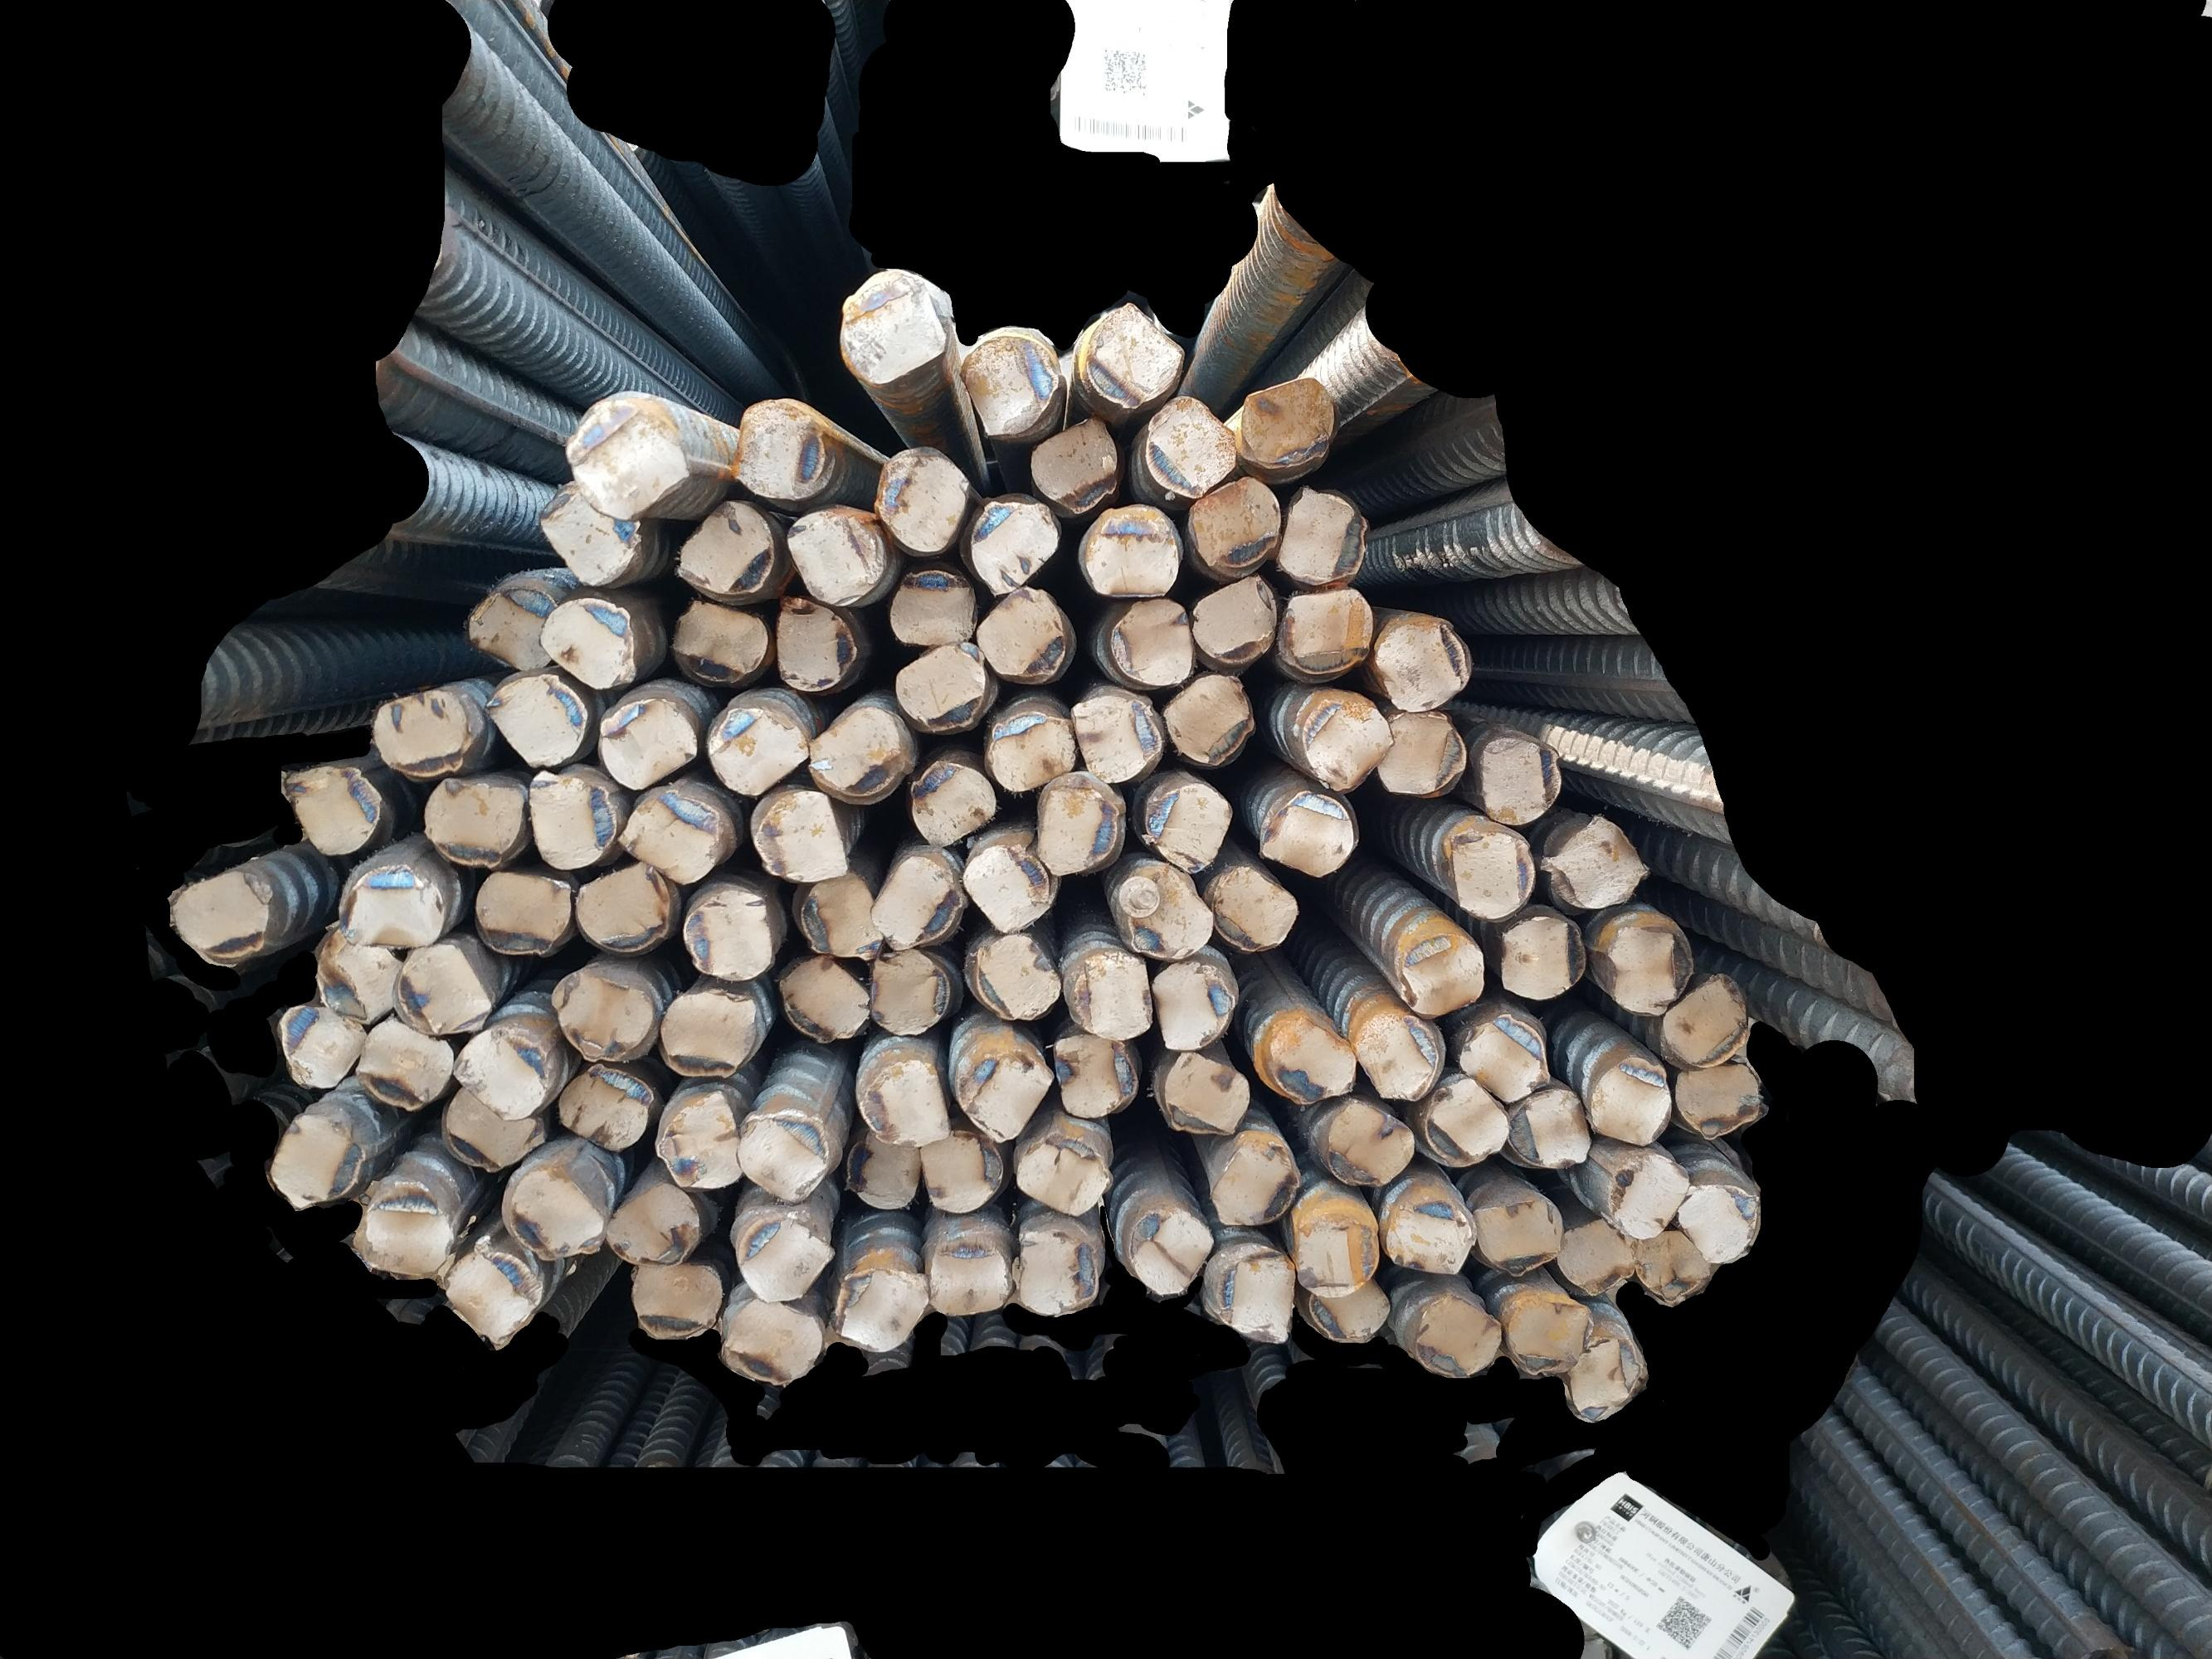bar: (554, 392, 692, 523), (833, 261, 957, 387), (957, 324, 1067, 441), (530, 479, 647, 587), (1079, 298, 1187, 415), (1539, 807, 1658, 913), (709, 1284, 828, 1389), (439, 1232, 547, 1345), (431, 1072, 549, 1175), (725, 392, 833, 504), (868, 444, 974, 558), (779, 502, 889, 610), (608, 788, 725, 889), (955, 1026, 1056, 1143), (1107, 859, 1218, 964), (544, 960, 657, 1063), (476, 673, 593, 770), (533, 587, 641, 692), (1156, 660, 1259, 770), (673, 486, 774, 598), (1468, 718, 1569, 829), (519, 760, 617, 875), (352, 1006, 457, 1112), (446, 1019, 551, 1126), (802, 695, 908, 800), (275, 760, 383, 863), (499, 1161, 607, 1263), (657, 589, 770, 687), (730, 1206, 840, 1305), (969, 575, 1069, 685), (166, 870, 279, 965), (389, 936, 493, 1039), (265, 1107, 368, 1211), (596, 692, 701, 795), (704, 695, 809, 798), (959, 495, 1063, 598), (865, 847, 967, 951), (303, 917, 404, 1023), (415, 770, 523, 870), (572, 857, 683, 953), (1208, 1236, 1302, 1349), (1006, 1216, 1107, 1321), (1199, 1126, 1304, 1227), (1598, 915, 1700, 1019), (354, 1176, 453, 1283), (329, 861, 448, 950), (1143, 392, 1239, 502), (364, 685, 476, 779), (1079, 502, 1180, 605), (1203, 857, 1306, 958), (1377, 610, 1478, 713), (650, 1086, 748, 1192), (1138, 772, 1236, 878), (554, 1058, 657, 1157), (1025, 416, 1124, 519), (1236, 373, 1339, 472), (657, 981, 760, 1080), (1257, 1009, 1360, 1108), (1299, 692, 1396, 796), (1184, 471, 1285, 570), (1065, 687, 1164, 788), (967, 924, 1065, 1026), (901, 748, 999, 850), (1143, 953, 1239, 1058), (1027, 770, 1121, 877), (767, 587, 859, 695), (1391, 924, 1490, 1023), (1454, 1007, 1553, 1107), (472, 863, 573, 960), (736, 1107, 833, 1208), (851, 1049, 952, 1147), (889, 636, 987, 737), (1443, 819, 1537, 924), (1187, 563, 1279, 669), (451, 586, 561, 674), (1157, 1042, 1257, 1140), (1259, 784, 1360, 880), (1654, 972, 1750, 1073), (1105, 591, 1199, 694), (1368, 704, 1471, 798), (1462, 1187, 1565, 1281), (1123, 1197, 1215, 1302), (1415, 1073, 1511, 1173), (748, 789, 851, 882), (1274, 474, 1353, 594), (1006, 1133, 1116, 1218), (680, 885, 777, 981), (774, 950, 870, 1047), (1062, 945, 1157, 1042), (1578, 1047, 1672, 1147), (830, 1263, 931, 1356), (1039, 1028, 1140, 1121), (1279, 582, 1372, 683), (274, 995, 370, 1091), (1598, 1148, 1694, 1244), (981, 704, 1079, 798), (1672, 1171, 1766, 1269), (1346, 1006, 1438, 1105), (626, 1253, 727, 1344), (877, 565, 985, 648), (1320, 1098, 1417, 1190), (960, 840, 1053, 936), (1407, 1290, 1503, 1382), (1668, 1056, 1769, 1143), (1497, 908, 1590, 1002), (1503, 1284, 1593, 1380), (865, 941, 953, 1039), (1281, 1211, 1381, 1298), (917, 1122, 1006, 1218), (1382, 1188, 1478, 1277), (605, 1180, 699, 1269), (920, 1229, 1013, 1317), (1562, 1333, 1651, 1425), (1504, 1080, 1593, 1173), (795, 873, 884, 964), (1550, 1213, 1637, 1300), (838, 1126, 922, 1215), (1626, 1225, 1715, 1309), (1302, 1274, 1394, 1349)
